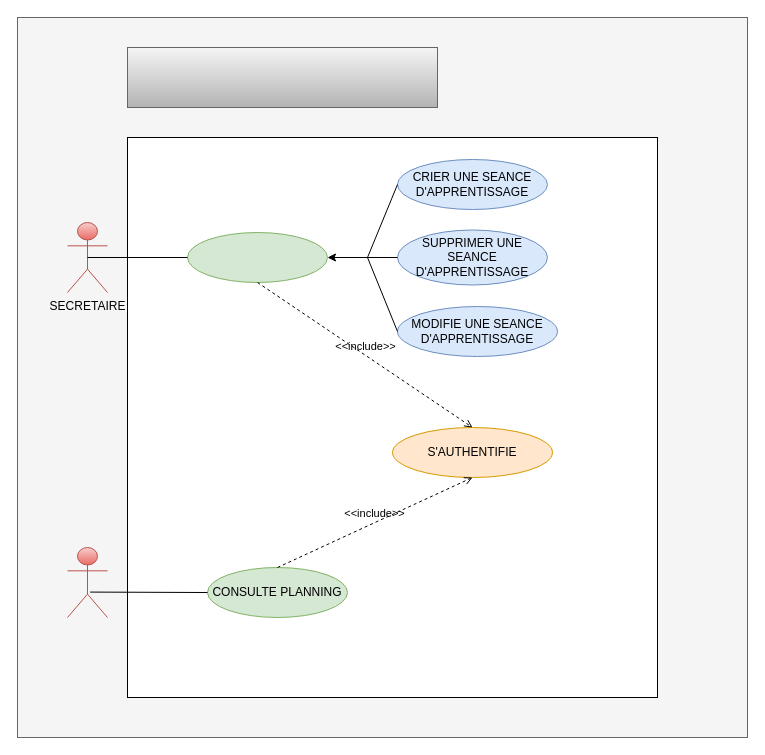
Image size: 765x755. Some labels were removed from this diagram. The centre of each missing label's shape, as x and y in pixels:
"DIAGRAMME CAS D'UTILISATION : GESTION PLANNING & CONSULTE PLANNING" goes at pixel 282 77.
"Gestion des planning" goes at pixel 257 257.
"MONITEUR" goes at pixel 87 582.
